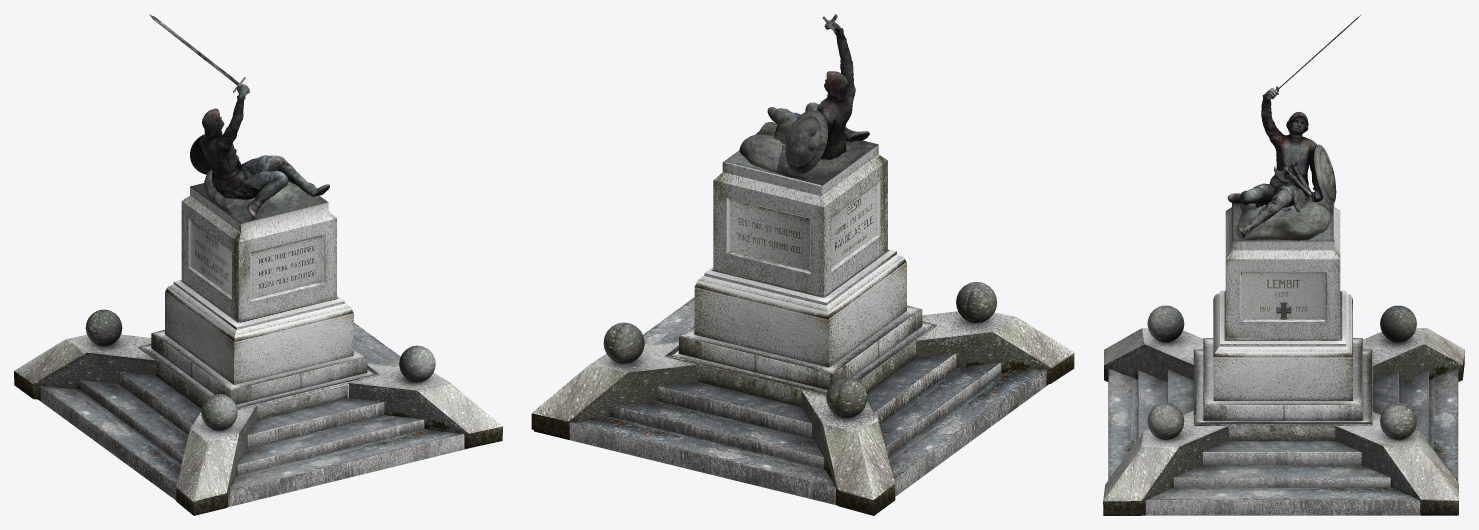
Rendered from lembit.glb.
3 views of the same model, side by side, from view 1: azimuth 30°, elevation 25°; view 2: azimuth 150°, elevation 25°; view 3: azimuth 270°, elevation 25° (orthographic). The views are drawn at different scales.
Visible parts, largest first — view 1: Model; view 2: Model; view 3: Model.
Boxes of the visible parts, x1,y1,x2,y2 form: Model: (14, 14, 502, 515); Model: (531, 14, 1074, 515); Model: (1103, 14, 1464, 515).
Bounding box in the file's own units: 4.48 × 5.39 × 4.5.
Materials: 4 (2 with a texture image).
